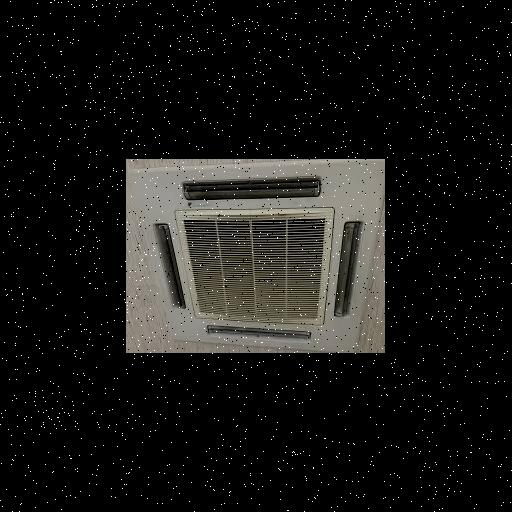4-way-ac: (132, 161, 384, 346)
